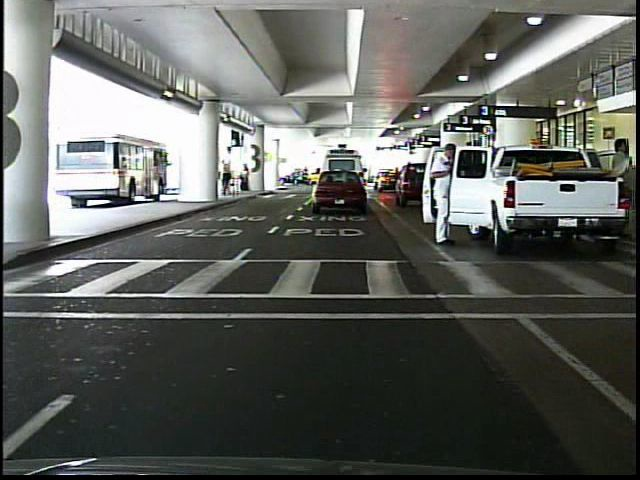person: (426, 138, 453, 246), (604, 135, 631, 235), (220, 157, 234, 198), (238, 163, 254, 195), (631, 153, 632, 214)
